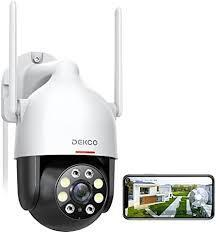maru: (10, 76, 123, 233)
